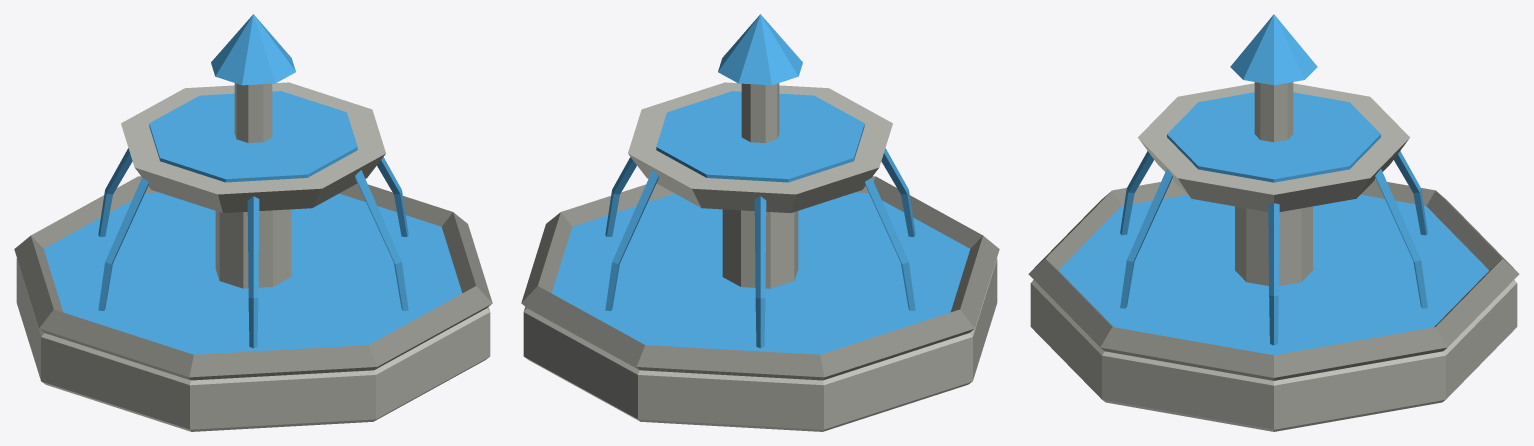
The model's file is Fountain.fbx.
The picture shows the model from 3 angles, left to right: view 1: azimuth 30°, elevation 25°; view 2: azimuth 150°, elevation 25°; view 3: azimuth 270°, elevation 25°; orthographic projection.
Visible parts, largest first — view 1: Fountain; view 2: Fountain; view 3: Fountain.
Part boxes in pixels (x1=…): Fountain: x1=14, y1=14, x2=492, y2=431; Fountain: x1=521, y1=14, x2=999, y2=431; Fountain: x1=1028, y1=14, x2=1519, y2=431.
Bounding box in the file's own units: 10.1 × 7.2 × 10.1.
Materials: 1 (1 with a texture image).
